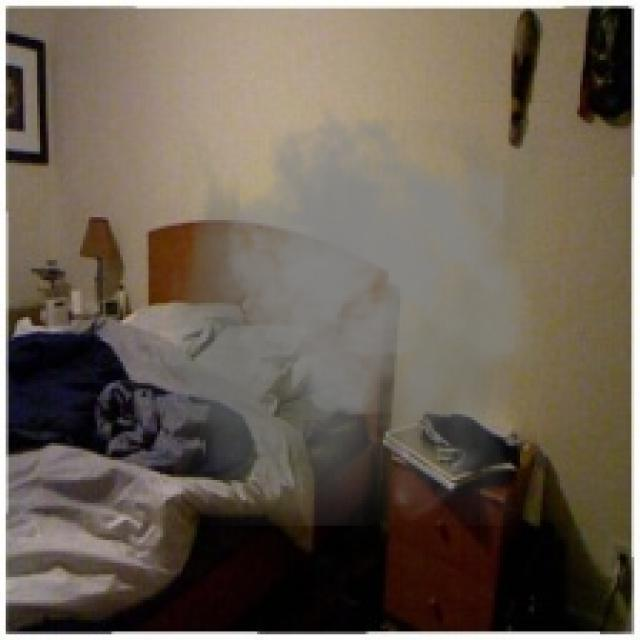Smoke: (165, 106, 546, 526)
